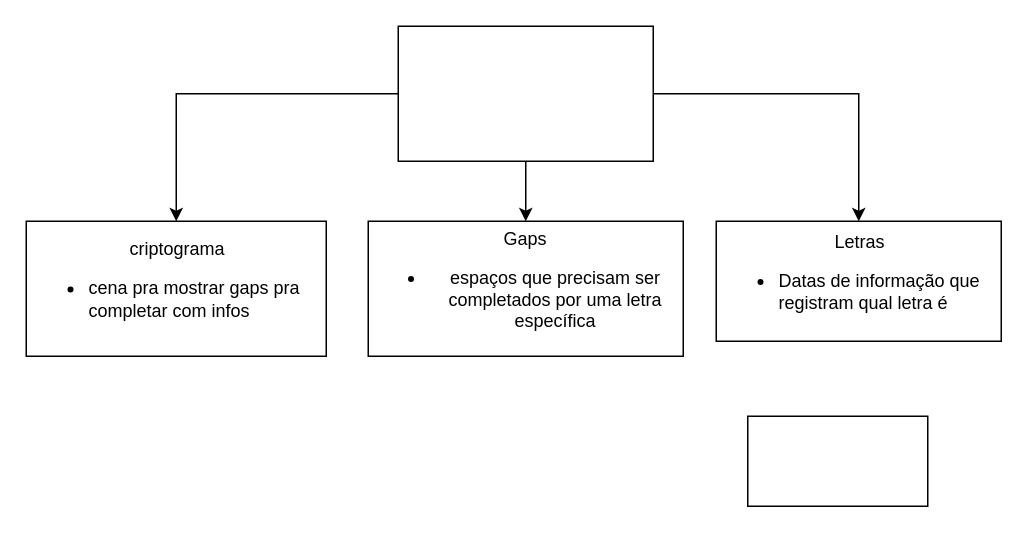
Some shapes in this 1028 by 533 pixel diagram are drawn without their labels. Each missing label, with the box of its shape:
game mostrar criptgramas mostrar letras passar de fase: (397, 25, 653, 161)
letra letra: string - id: int: (746, 415, 928, 506)
